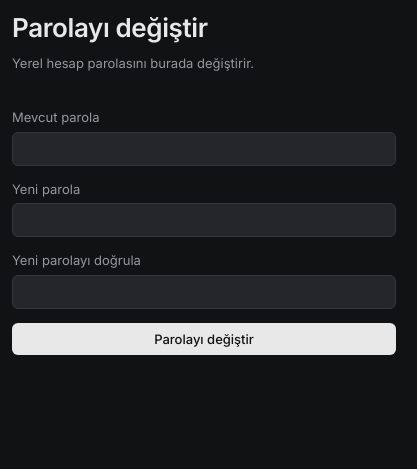
Test: the password policy refusal › shows an uncoded list as sent, even in Turkish
In the password field labelled "Mevcut parola": (204, 148) [12,132,396,166], type "old-password-1"
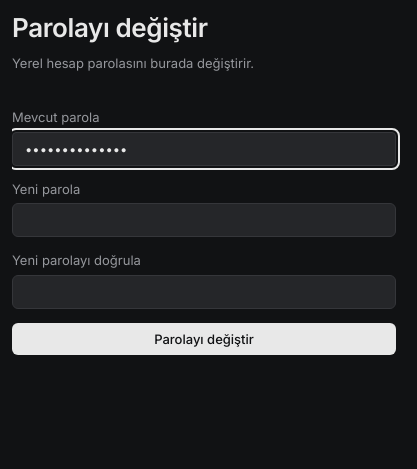
In the password field labelled "Yeni parola": (204, 220) [12,203,396,237], type "short"
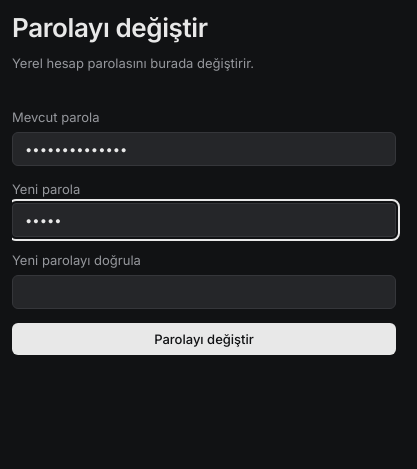
In the password field labelled "Yeni parolayı doğrula": (204, 292) [12,274,396,308], type "short"
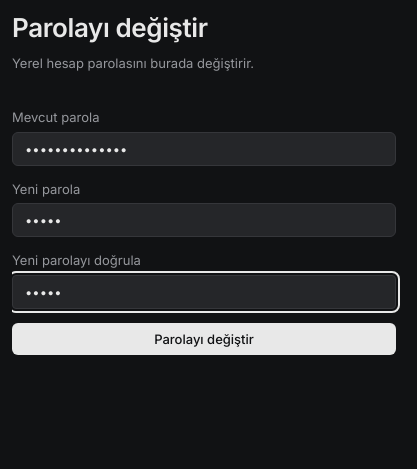
Click the button "Parolayı değiştir": (204, 338) [12,322,396,354]
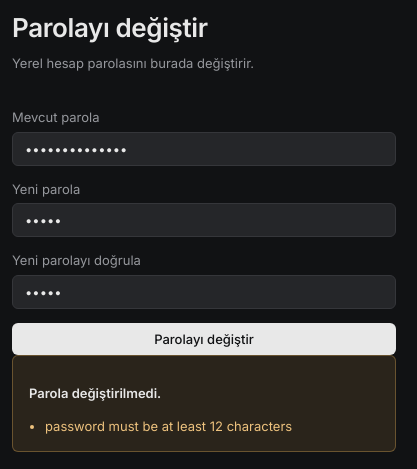
Now the message shows "password must be at least 12 characters", box [45,418,292,434]
